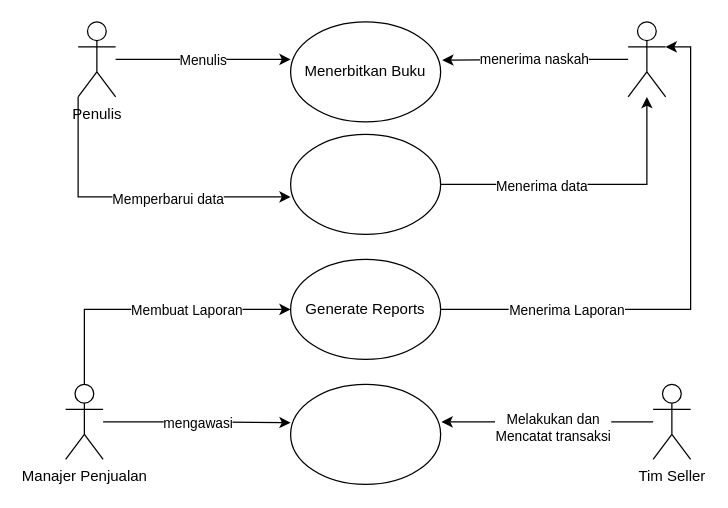
This 728x508 diagram has some shape labels left out. The shapes that lost their labels are listed below. From the top down, each one's box as (x1, y1, x2, y2) in pixels, then its label:
(627, 21, 666, 97): TopText Publisher
(289, 133, 441, 234): Manage book and information
(289, 383, 441, 484): Manage Sales
